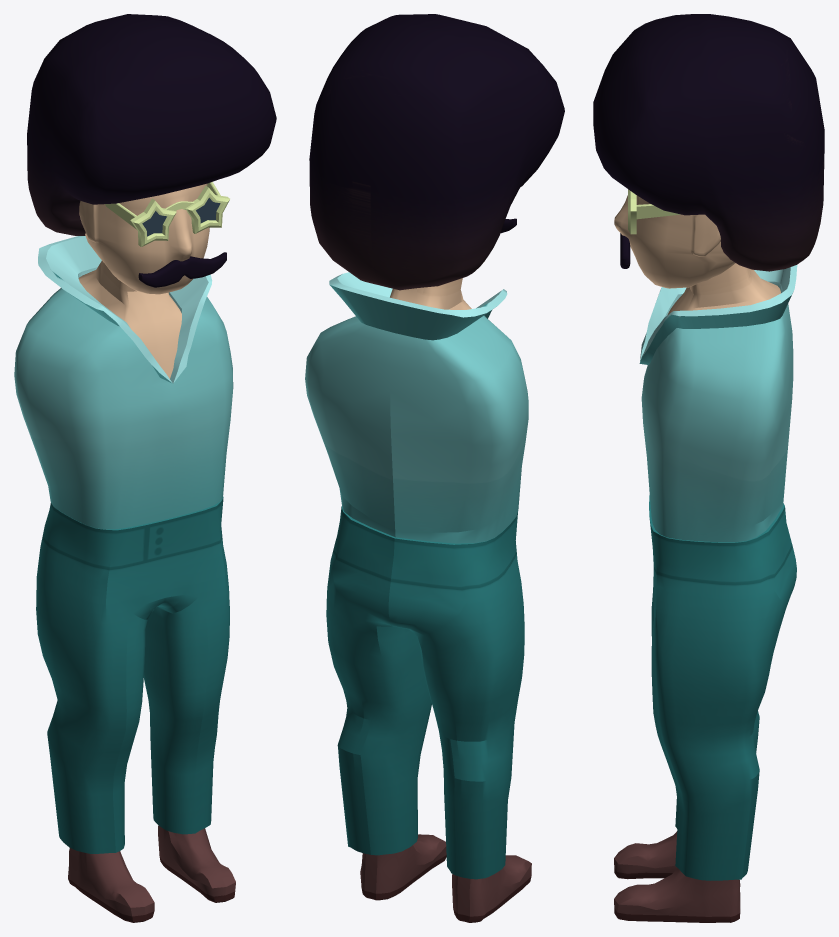
Rendered from MaleCharacter_70s_v3.fbx.
The picture shows the model from 3 angles, left to right: view 1: azimuth 30°, elevation 25°; view 2: azimuth 150°, elevation 25°; view 3: azimuth 270°, elevation 25°; orthographic projection. The views are drawn at different scales.
Visible parts, largest first — view 1: Clothes, HeadGearCombo_70s_v3, M_Head_70s, Body; view 2: Clothes, HeadGearCombo_70s_v3, Body; view 3: Clothes, HeadGearCombo_70s_v3, M_Head_70s, Body.
Boxes of the visible parts, x1,y1,x2,y2 form: Clothes: (14, 236, 235, 922); HeadGearCombo_70s_v3: (27, 14, 276, 287); M_Head_70s: (79, 183, 209, 294); Body: (78, 261, 181, 378); Clothes: (305, 272, 531, 922); HeadGearCombo_70s_v3: (309, 14, 564, 290); Body: (390, 278, 471, 309); Clothes: (614, 265, 797, 922); HeadGearCombo_70s_v3: (593, 14, 824, 271); M_Head_70s: (614, 195, 735, 288); Body: (667, 263, 780, 314).
Bounding box in the file's own units: 4.13 × 16.5 × 3.99.
